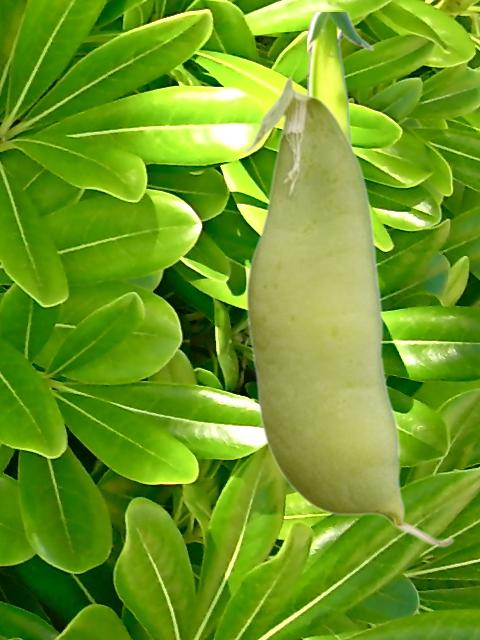pea: (243, 76, 455, 547), (307, 12, 373, 147)
